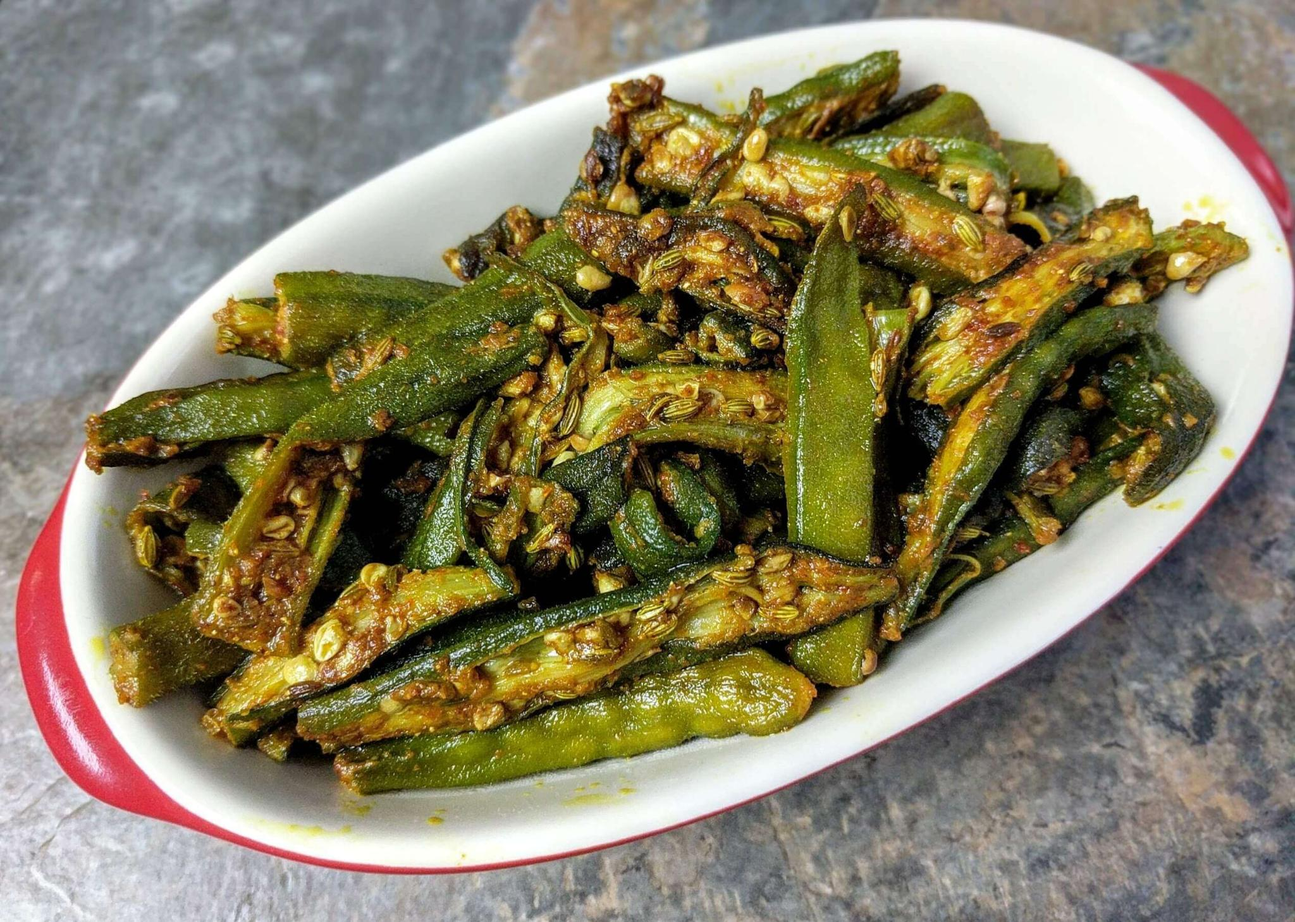bhindi: (183, 208, 1097, 656)
